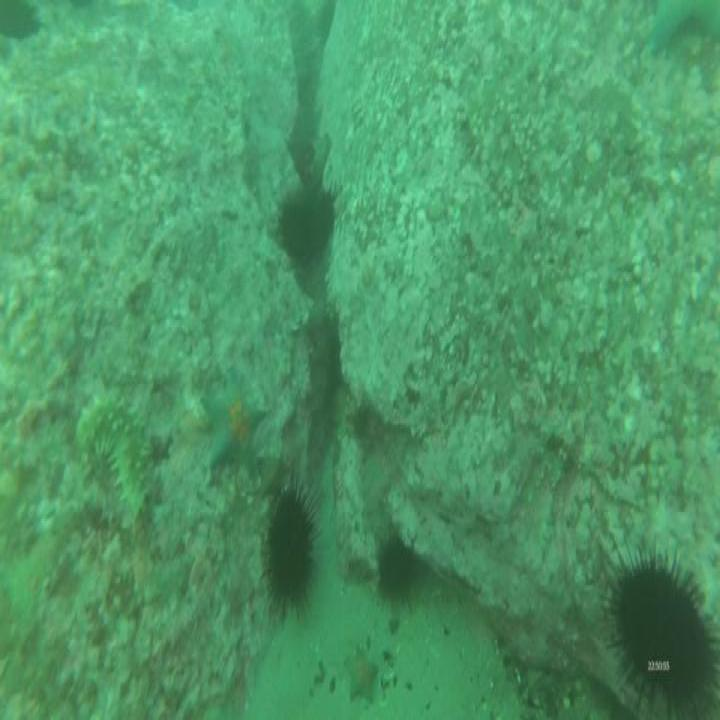echinus: (598, 528, 720, 720), (260, 471, 320, 621), (372, 524, 419, 610), (275, 188, 315, 270), (307, 185, 339, 258), (0, 0, 42, 44)
holothurian: (75, 388, 159, 535)
starfish: (199, 363, 270, 487), (640, 0, 720, 62), (343, 646, 380, 708)
